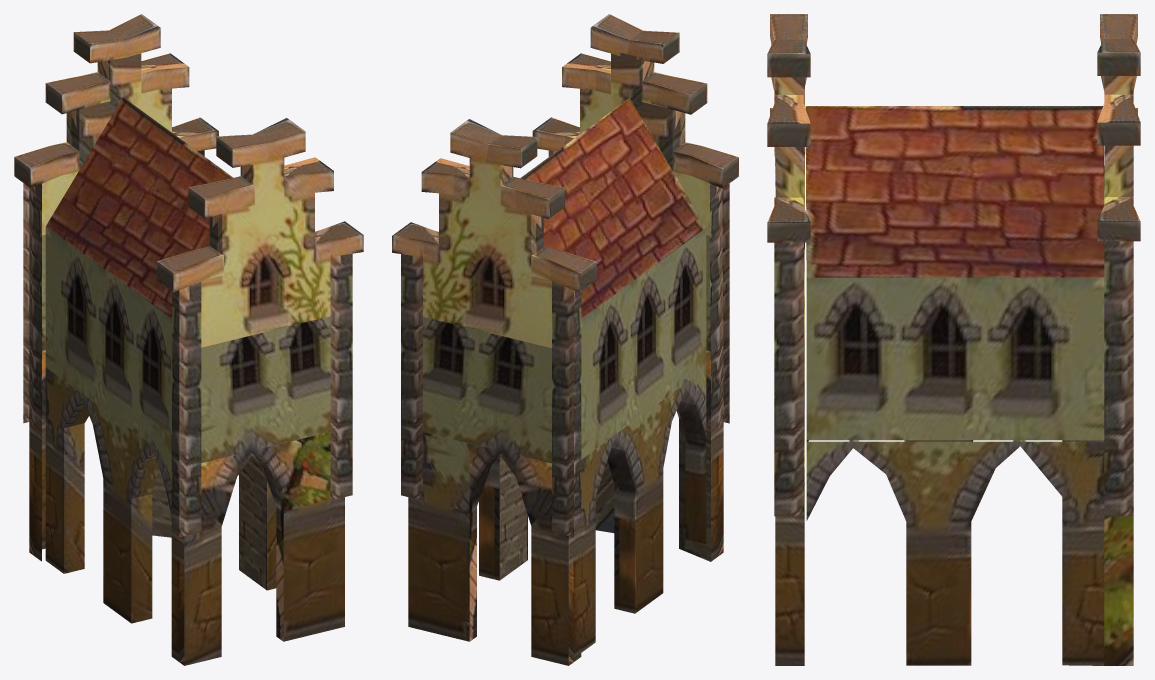
3 renders of one model, left to right at view 1: azimuth 30°, elevation 25°; view 2: azimuth 150°, elevation 25°; view 3: azimuth 270°, elevation 25°, orthographic. The views are drawn at different scales.
Parts seen in each view (by area): view 1: t2; view 2: t2; view 3: t2.
Boxes of the visible parts, box(x1,y1,x2,y2) form: t2: box(14, 14, 363, 665); t2: box(392, 14, 738, 665); t2: box(767, 14, 1140, 665).
Size of the model in its own units: 1.4 by 3.6 by 2.07.
Materials: 1 (1 with a texture image).
